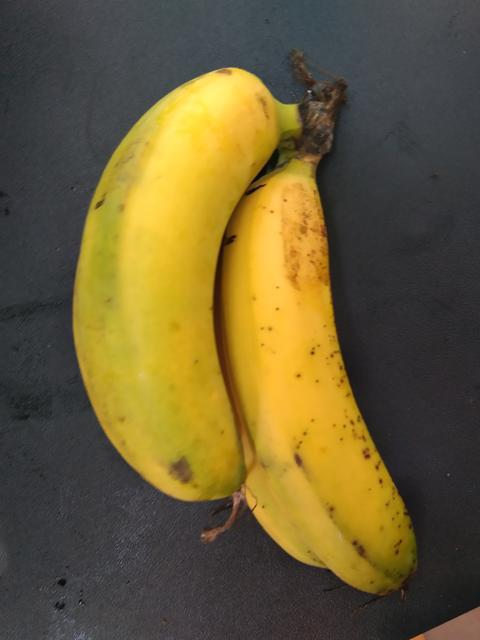freshripe: (39, 57, 270, 523)
ripe: (190, 148, 433, 616)
